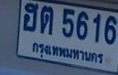txt16: (39, 5, 54, 36)
txt39: (22, 2, 39, 33)
